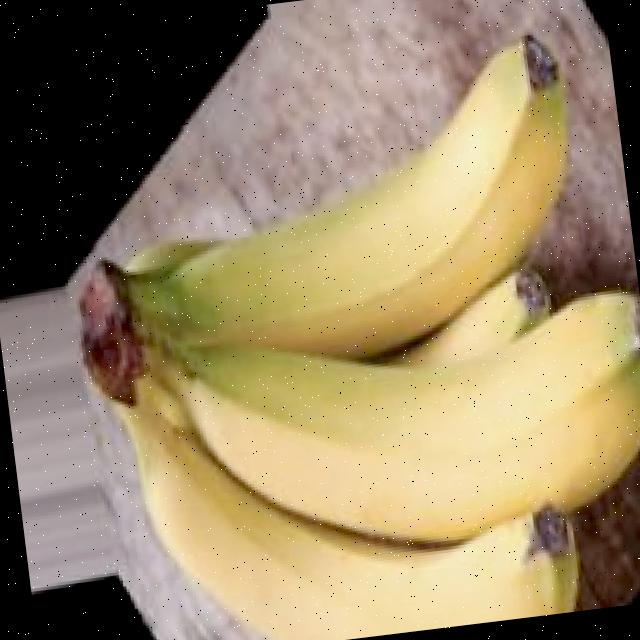banana: (31, 3, 608, 407)
